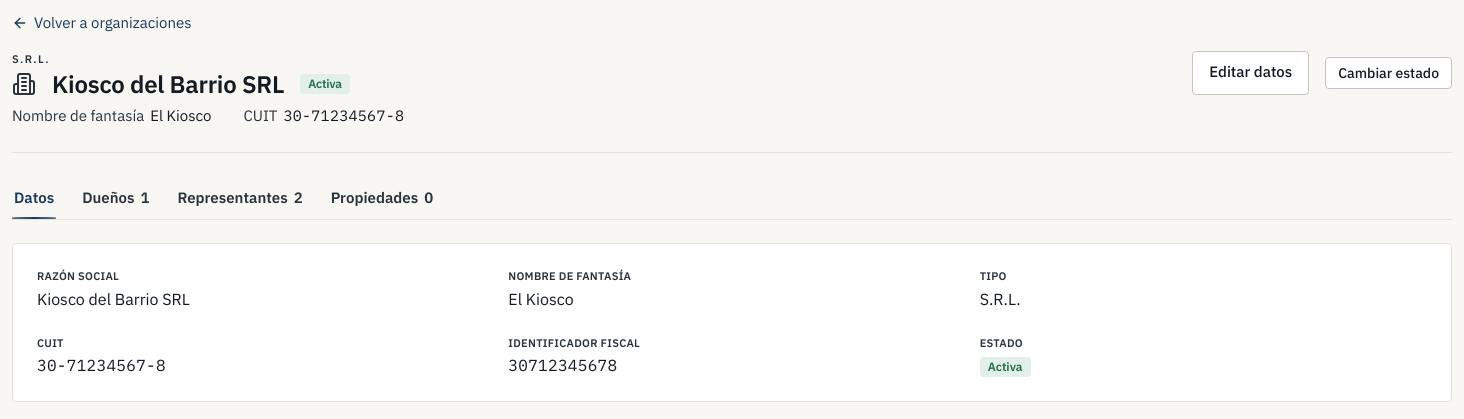
dueños › no deja quitar al único dueño, y lo explica
Click the tab "Dueños1". click: (116, 198)
box: [80,176,151,219]
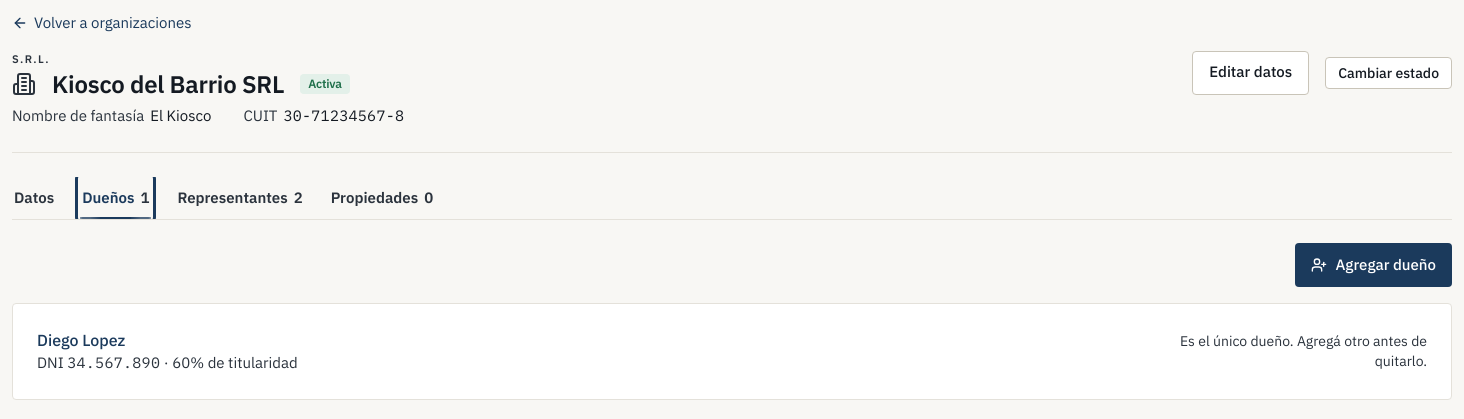
Expected: the text "Es el único dueño. Agregá otro antes de quitarlo." is shown, [1171,331,1427,371]
